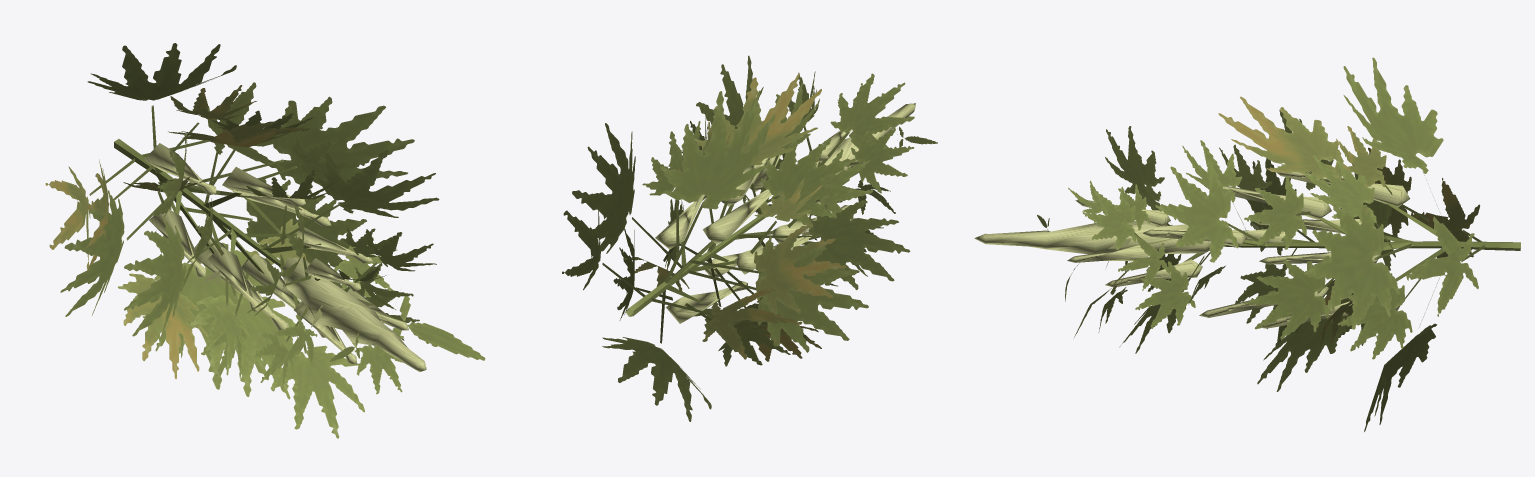
File: p_frosty_haze_ripe_c1_cards.obj
3 views of the same model, side by side, from view 1: azimuth 30°, elevation 25°; view 2: azimuth 150°, elevation 25°; view 3: azimuth 270°, elevation 25° (orthographic). The views are drawn at different scales.
Size of the model in its own units: 1.49 by 1.59 by 2.03.
1 material, 1 textured.
